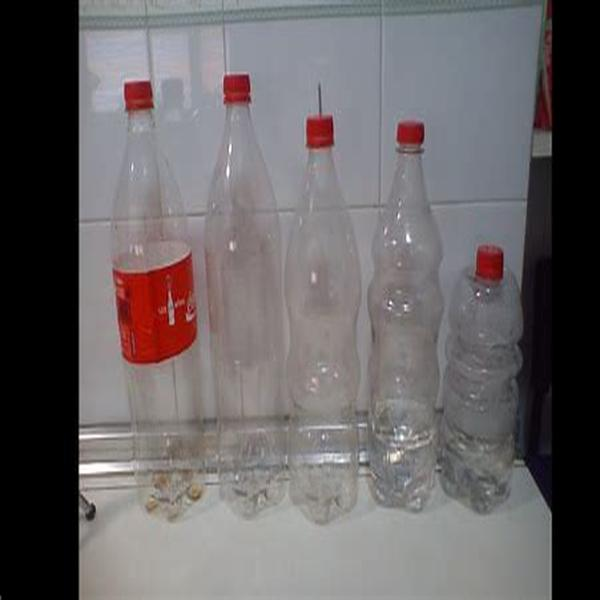tutuma: (103, 71, 204, 558), (210, 63, 280, 526), (286, 105, 359, 517), (369, 113, 439, 527), (447, 237, 535, 523)
